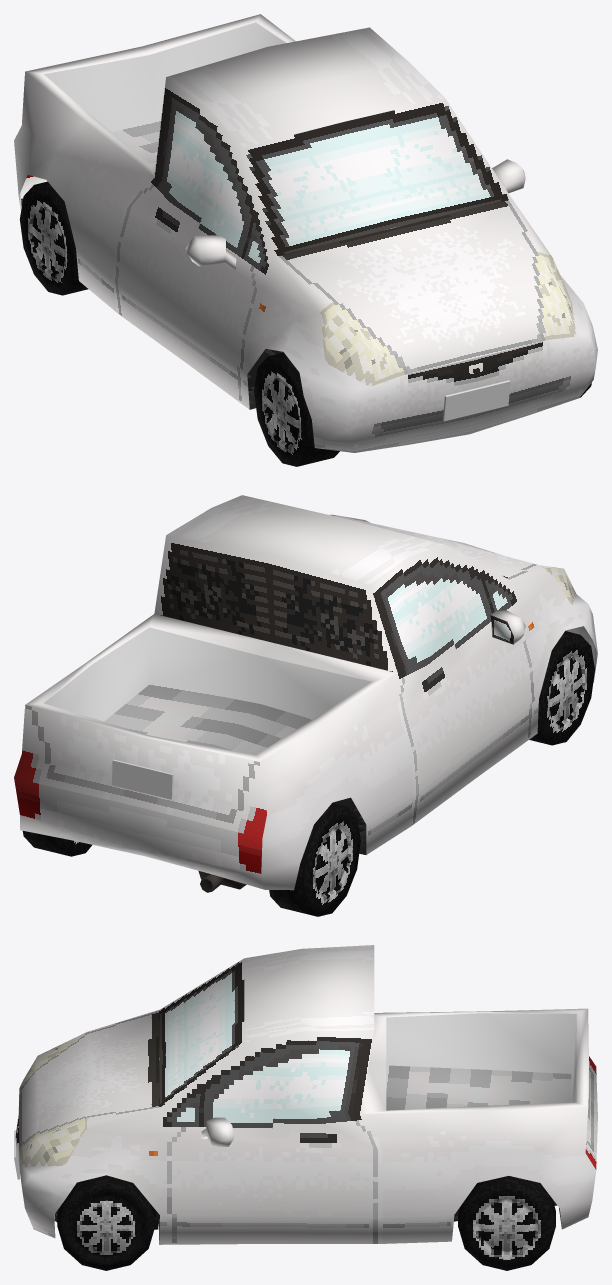
The model's file is jazz.glb.
3 renders of one model, top to bottom at view 1: azimuth 30°, elevation 25°; view 2: azimuth 150°, elevation 25°; view 3: azimuth 270°, elevation 25°, orthographic. The views are drawn at different scales.
Parts seen in each view (by area): view 1: Chassis, FRWheel, BRWheel, LicensePlate; view 2: Chassis, BRWheel, FRWheel, LicensePlate, BLWheel; view 3: Chassis, BLWheel, FLWheel.
Boxes of the visible parts, x1=… form: Chassis: x1=14, y1=14, x2=597, y2=452; FRWheel: x1=254, y1=352, x2=339, y2=466; BRWheel: x1=19, y1=181, x2=88, y2=295; LicensePlate: x1=443, y1=380, x2=510, y2=421; Chassis: x1=14, y1=495, x2=597, y2=890; BRWheel: x1=269, y1=802, x2=360, y2=916; FRWheel: x1=529, y1=631, x2=594, y2=745; LicensePlate: x1=112, y1=759, x2=173, y2=799; BLWheel: x1=22, y1=831, x2=91, y2=856; Chassis: x1=15, y1=945, x2=597, y2=1244; BLWheel: x1=458, y1=1176, x2=555, y2=1270; FLWheel: x1=57, y1=1175, x2=155, y2=1270.
Bounding box in the file's own units: 1.66 × 1.26 × 2.92.
2 materials, 2 textured.
